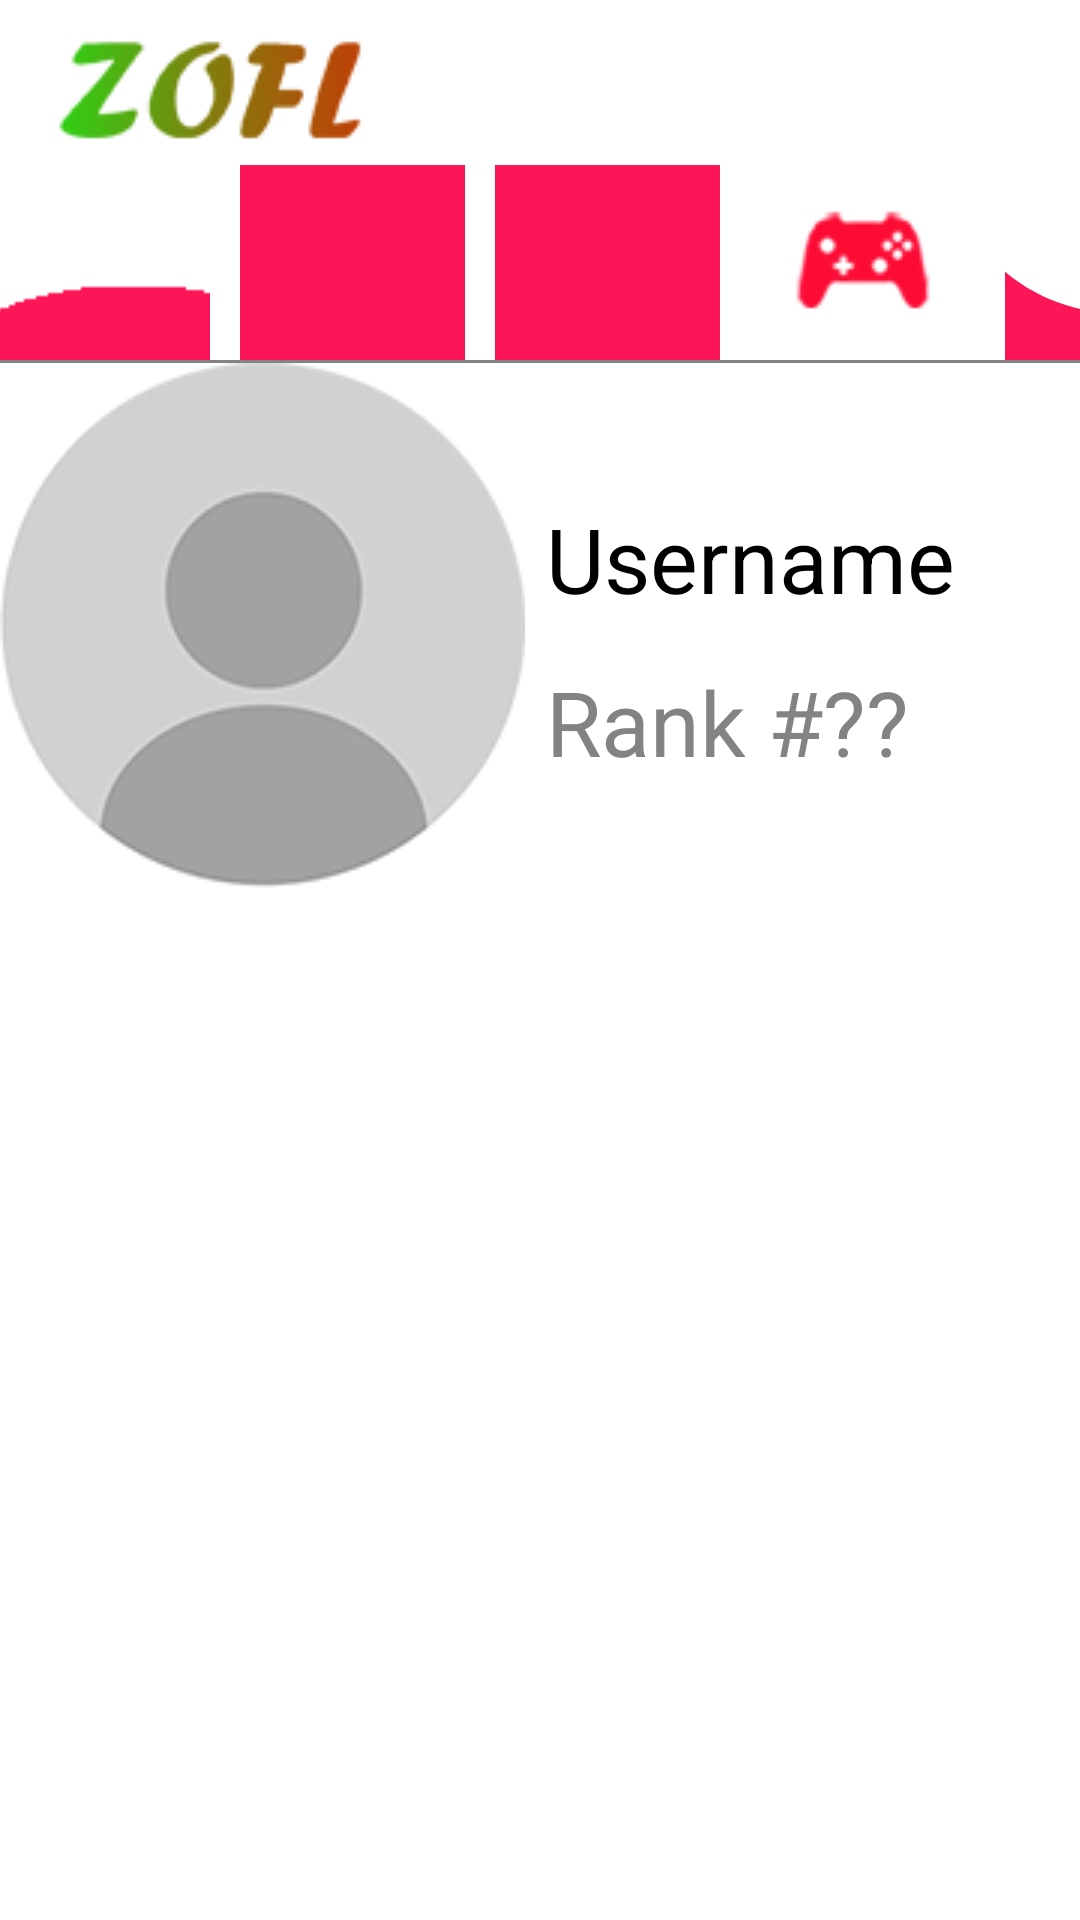

Named icons in this screenshot (1080 × 1920) and their centers, [x,y]:
redgame: [863,260]
